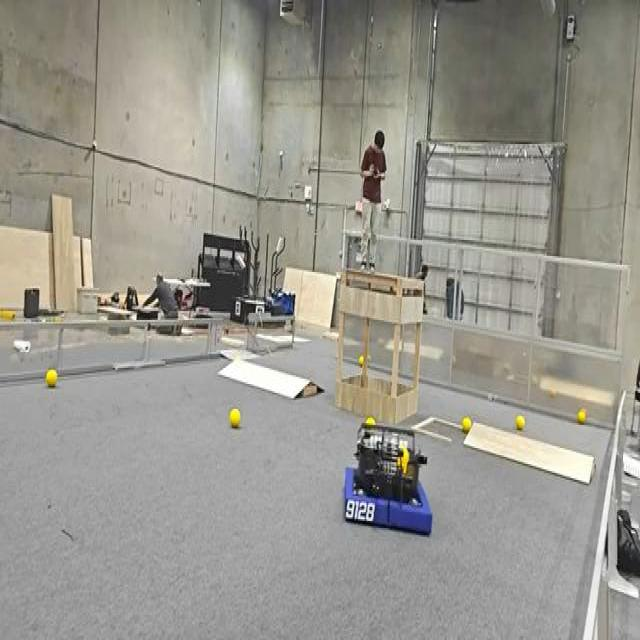Fuel: (229, 409, 240, 428), (229, 409, 240, 427), (45, 370, 57, 386), (515, 414, 525, 430), (461, 416, 471, 432), (516, 415, 525, 430), (577, 409, 586, 424), (577, 409, 586, 423), (365, 416, 374, 425)
